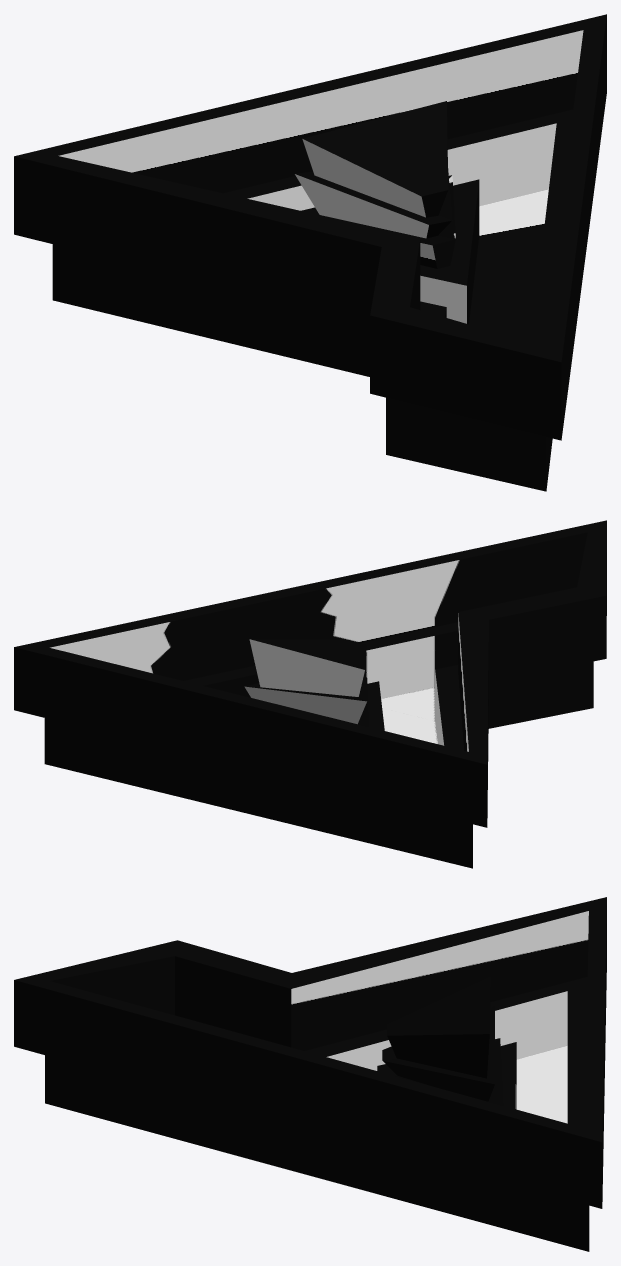
Rendered from level0_3.fbx.
The picture shows the model from 3 angles, top to bottom: view 1: azimuth 30°, elevation 25°; view 2: azimuth 150°, elevation 25°; view 3: azimuth 270°, elevation 25°; orthographic projection. The views are drawn at different scales.
Visible parts, largest first — view 1: 0-3_upper_wall, 0-3_lower_wall, 0-3_pillar_green_top, 0-3_floor, 0-3_pillar_green; view 2: 0-3_upper_wall, 0-3_lower_wall, 0-3_pillar_green_top, 0-3_floor, 0-3_pillar_green; view 3: 0-3_upper_wall, 0-3_lower_wall, 0-3_pillar_green_top, 0-3_floor, 0-3_pillar_green.
Boxes of the visible parts, box(x1,y1,x2,y2) form: 0-3_upper_wall: box(14, 14, 606, 440); 0-3_lower_wall: box(52, 109, 573, 491); 0-3_pillar_green_top: box(295, 101, 455, 268); 0-3_floor: box(469, 189, 548, 342); 0-3_pillar_green: box(420, 179, 479, 324); 0-3_upper_wall: box(14, 520, 606, 827); 0-3_lower_wall: box(44, 622, 593, 868); 0-3_pillar_green_top: box(244, 639, 368, 726); 0-3_floor: box(381, 687, 437, 743); 0-3_pillar_green: box(367, 681, 384, 730); 0-3_upper_wall: box(14, 897, 606, 1208); 0-3_lower_wall: box(45, 977, 589, 1251); 0-3_pillar_green_top: box(377, 976, 503, 1105); 0-3_floor: box(516, 1045, 567, 1123); 0-3_pillar_green: box(500, 1042, 516, 1109).
Size of the model in its own units: 23.55 by 6.44 by 24.05.
5 materials, 5 textured.
